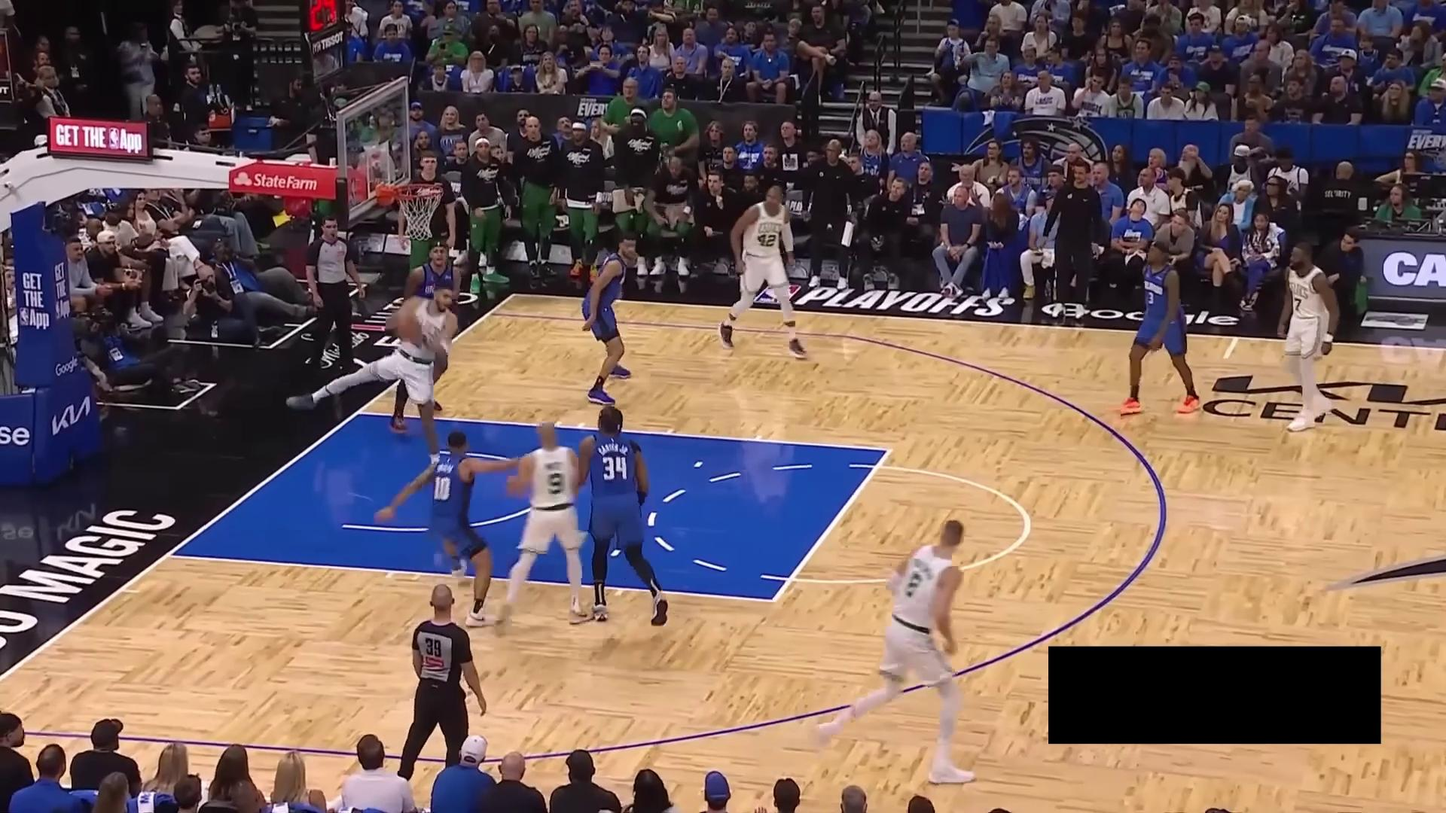ball: (390, 309, 422, 341)
number: (600, 455, 627, 483), (432, 476, 453, 503), (905, 571, 924, 598), (547, 472, 567, 495), (757, 233, 777, 247), (1293, 297, 1302, 311), (1148, 291, 1154, 305)
player: (810, 514, 979, 789), (376, 425, 522, 630), (577, 401, 678, 627), (489, 418, 590, 638), (714, 178, 809, 360), (386, 238, 470, 435), (1274, 235, 1353, 437), (1120, 238, 1201, 419), (577, 227, 645, 409)
player-in-possession: (284, 272, 462, 470)
referee: (396, 577, 488, 781), (303, 211, 368, 377)
rim: (395, 182, 444, 200)
